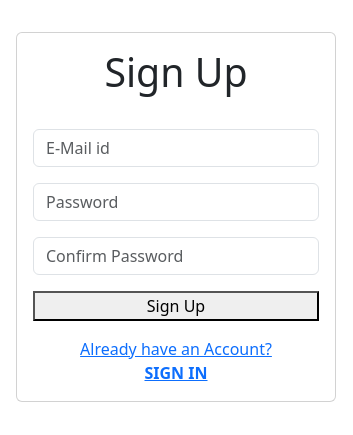
Test: SignUp Component › shows error when passwords do not match
Type "test@test.com" into the field with placeholder "E-Mail id" at point(176, 148), box left=33, top=129, right=319, bottom=167
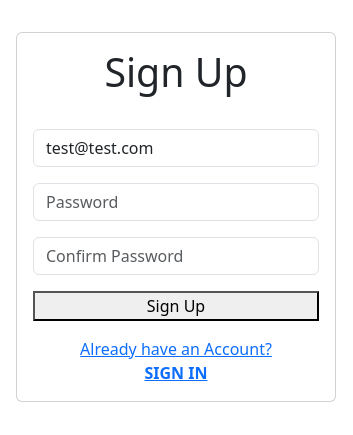
Type "123456" into the password field with placeholder "Password" at point(176, 202), box left=33, top=183, right=319, bottom=221
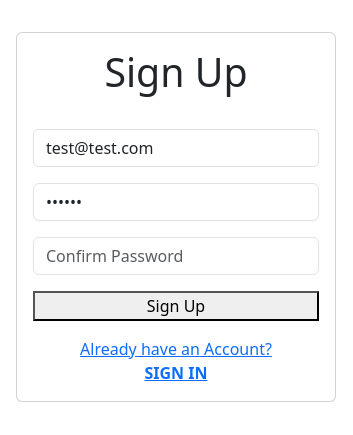
Type "abcdef" into the password field with placeholder "Confirm Password" at point(176, 256), box left=33, top=237, right=319, bottom=275
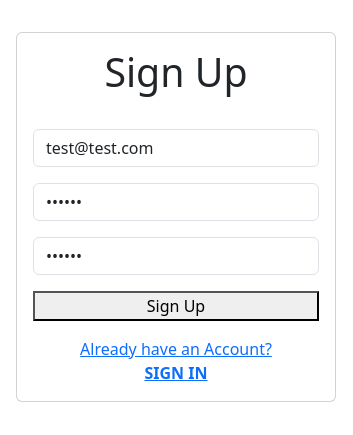
Click the button "Sign Up" at point(176, 306), box left=33, top=291, right=319, bottom=321
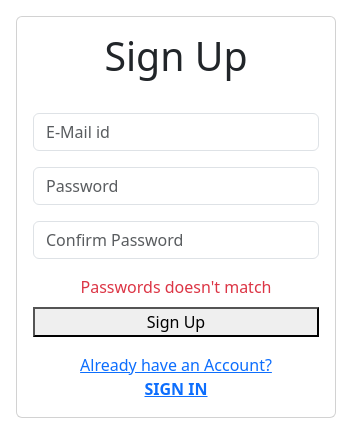
Check: the text "Passwords doesn't match" is shown, box left=80, top=276, right=272, bottom=298
